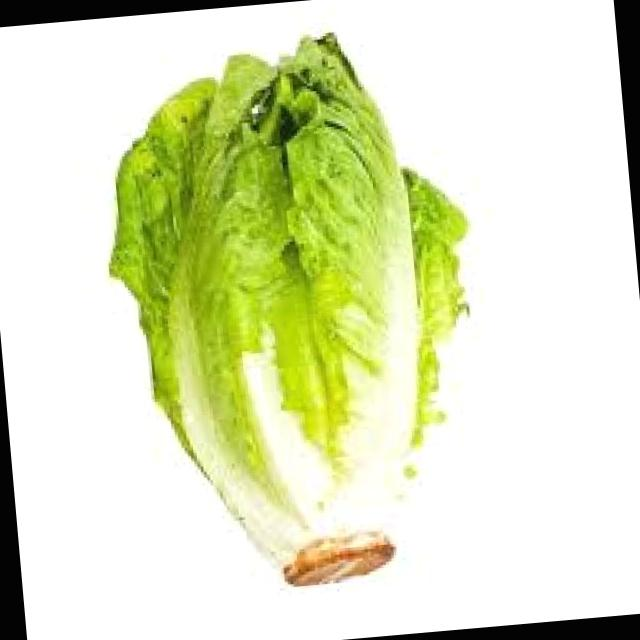Lettuce-Ready-to-Harvest: (110, 33, 465, 585)
